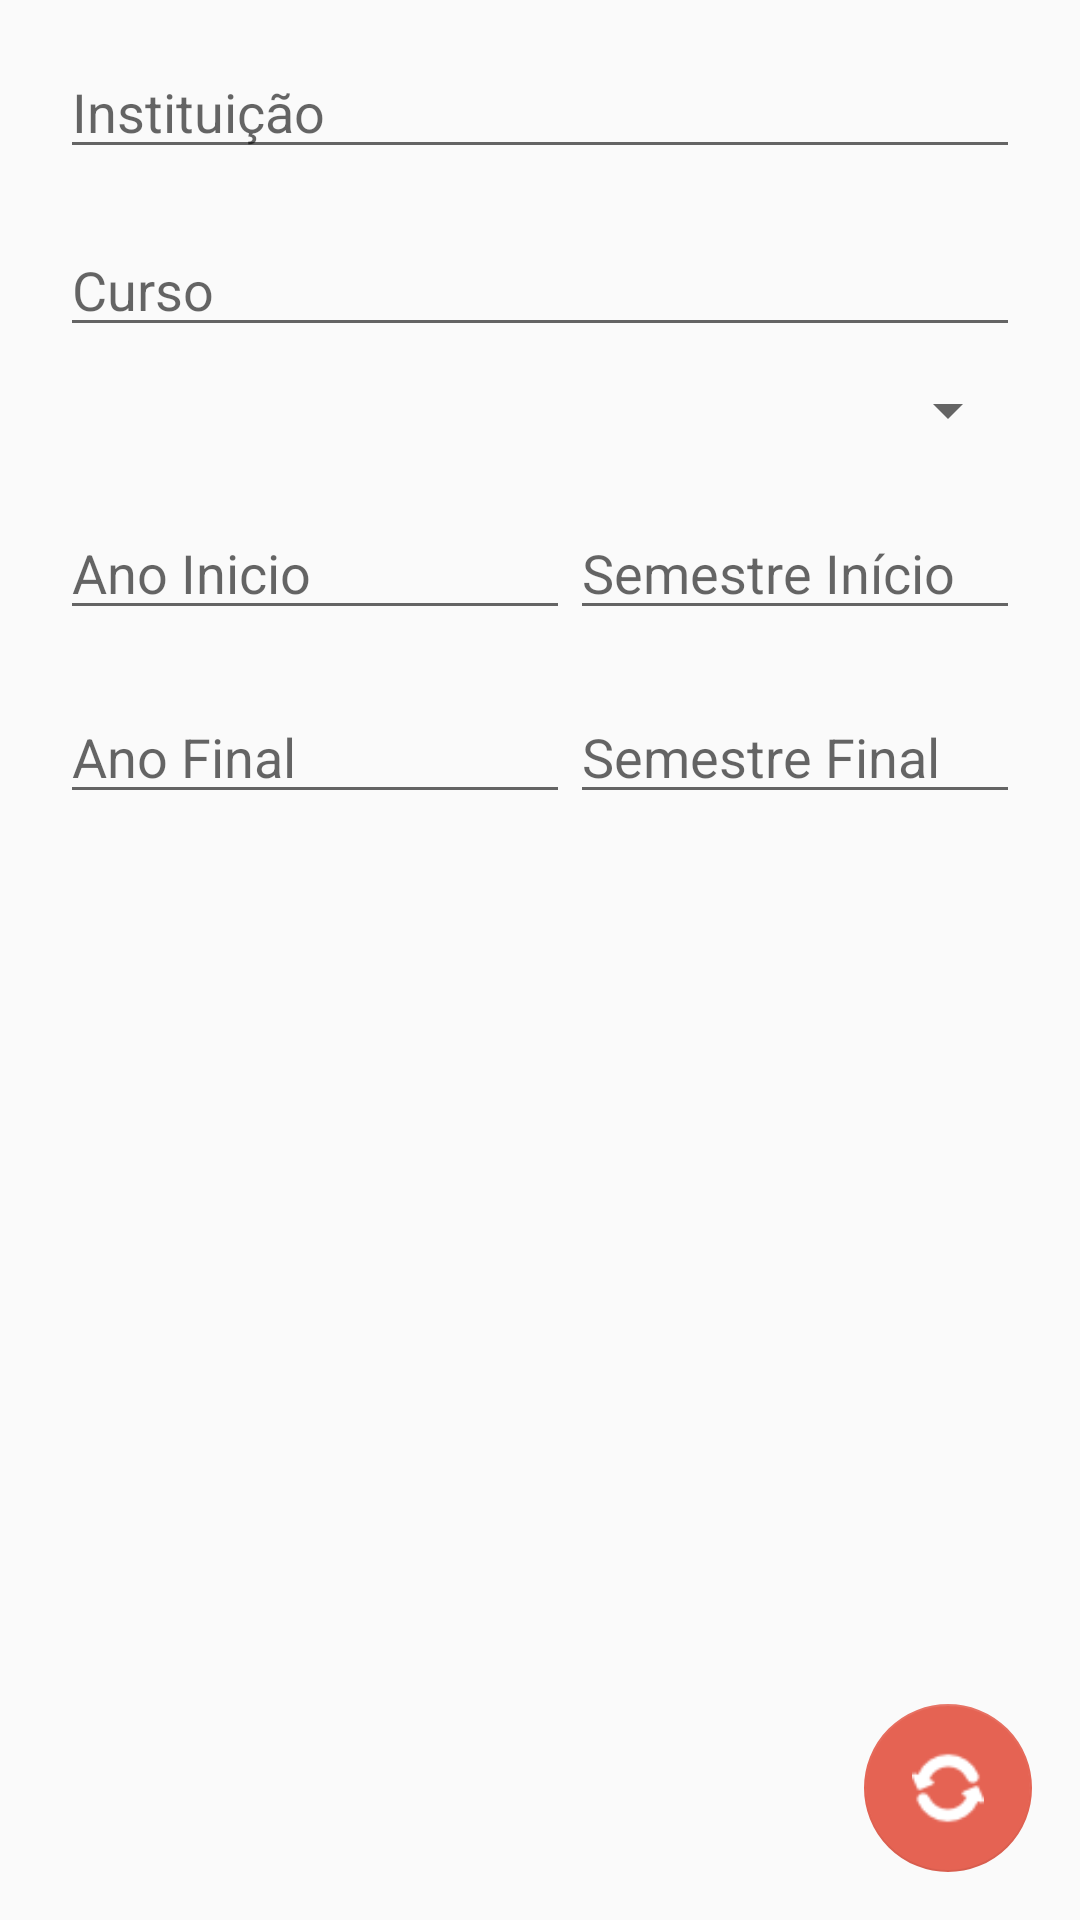

Where icons sit on this 1080px x 1920px app screen, as box(x1, y1, x2, y2):
update: box(864, 1704, 1032, 1872)
